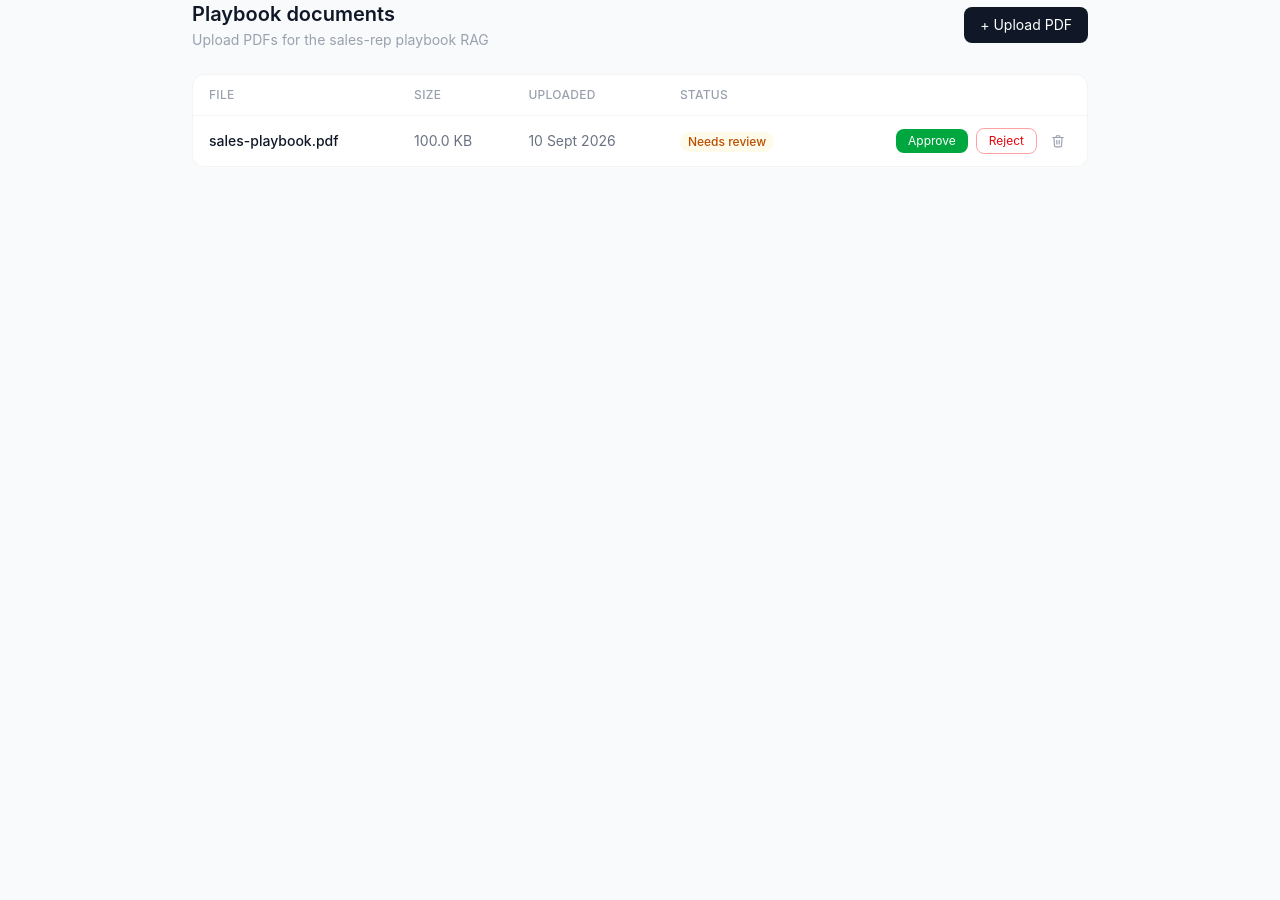
Test case: DocumentsPage › opens delete confirmation modal on trash click
Click the button named "delete document" at x=1058, y=141, box 1045,128 -> 1071,154
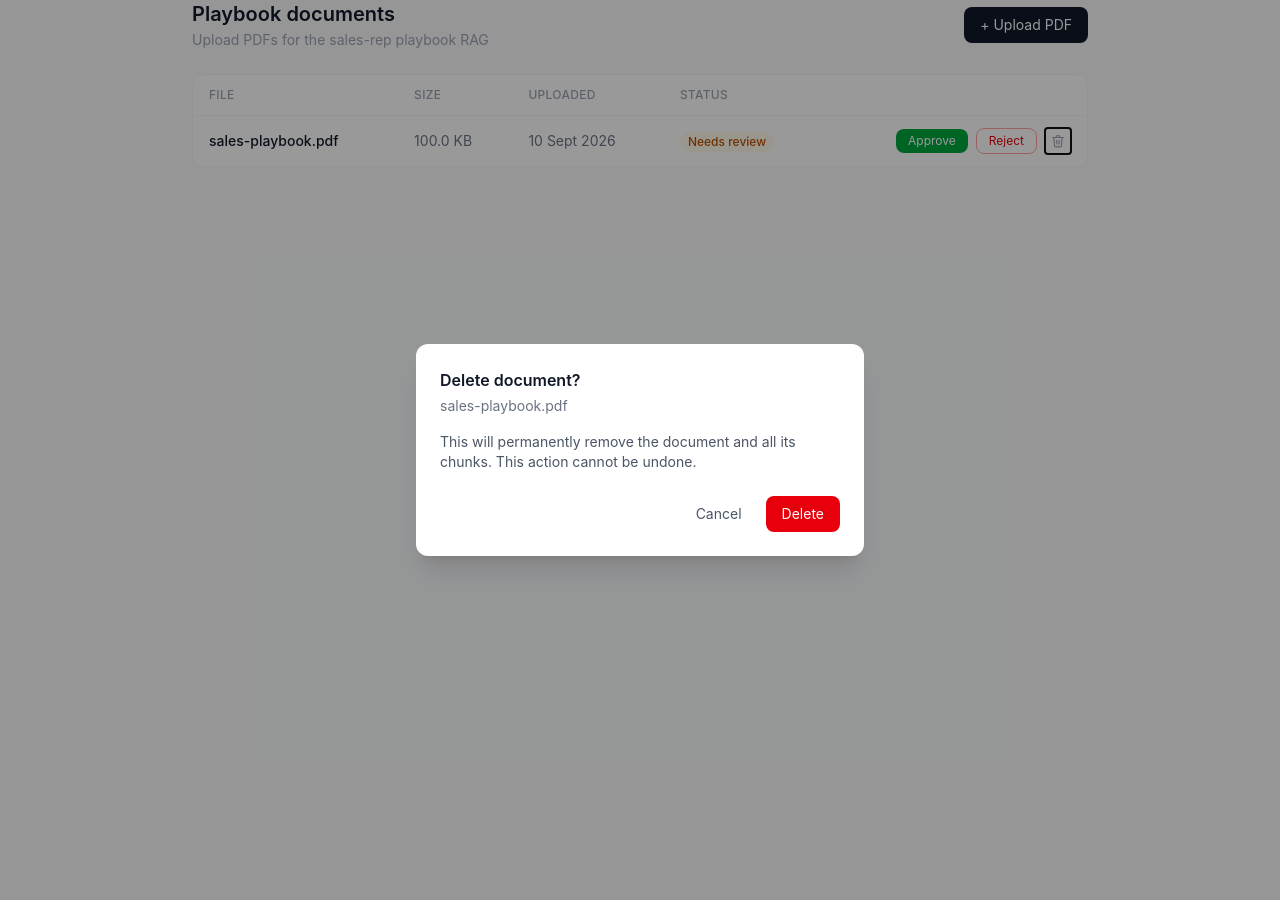
Result: the heading "Delete document?" is shown at 440,370 -> 580,390
Result: the text "cannot be undone" is shown at 440,433 -> 796,470
